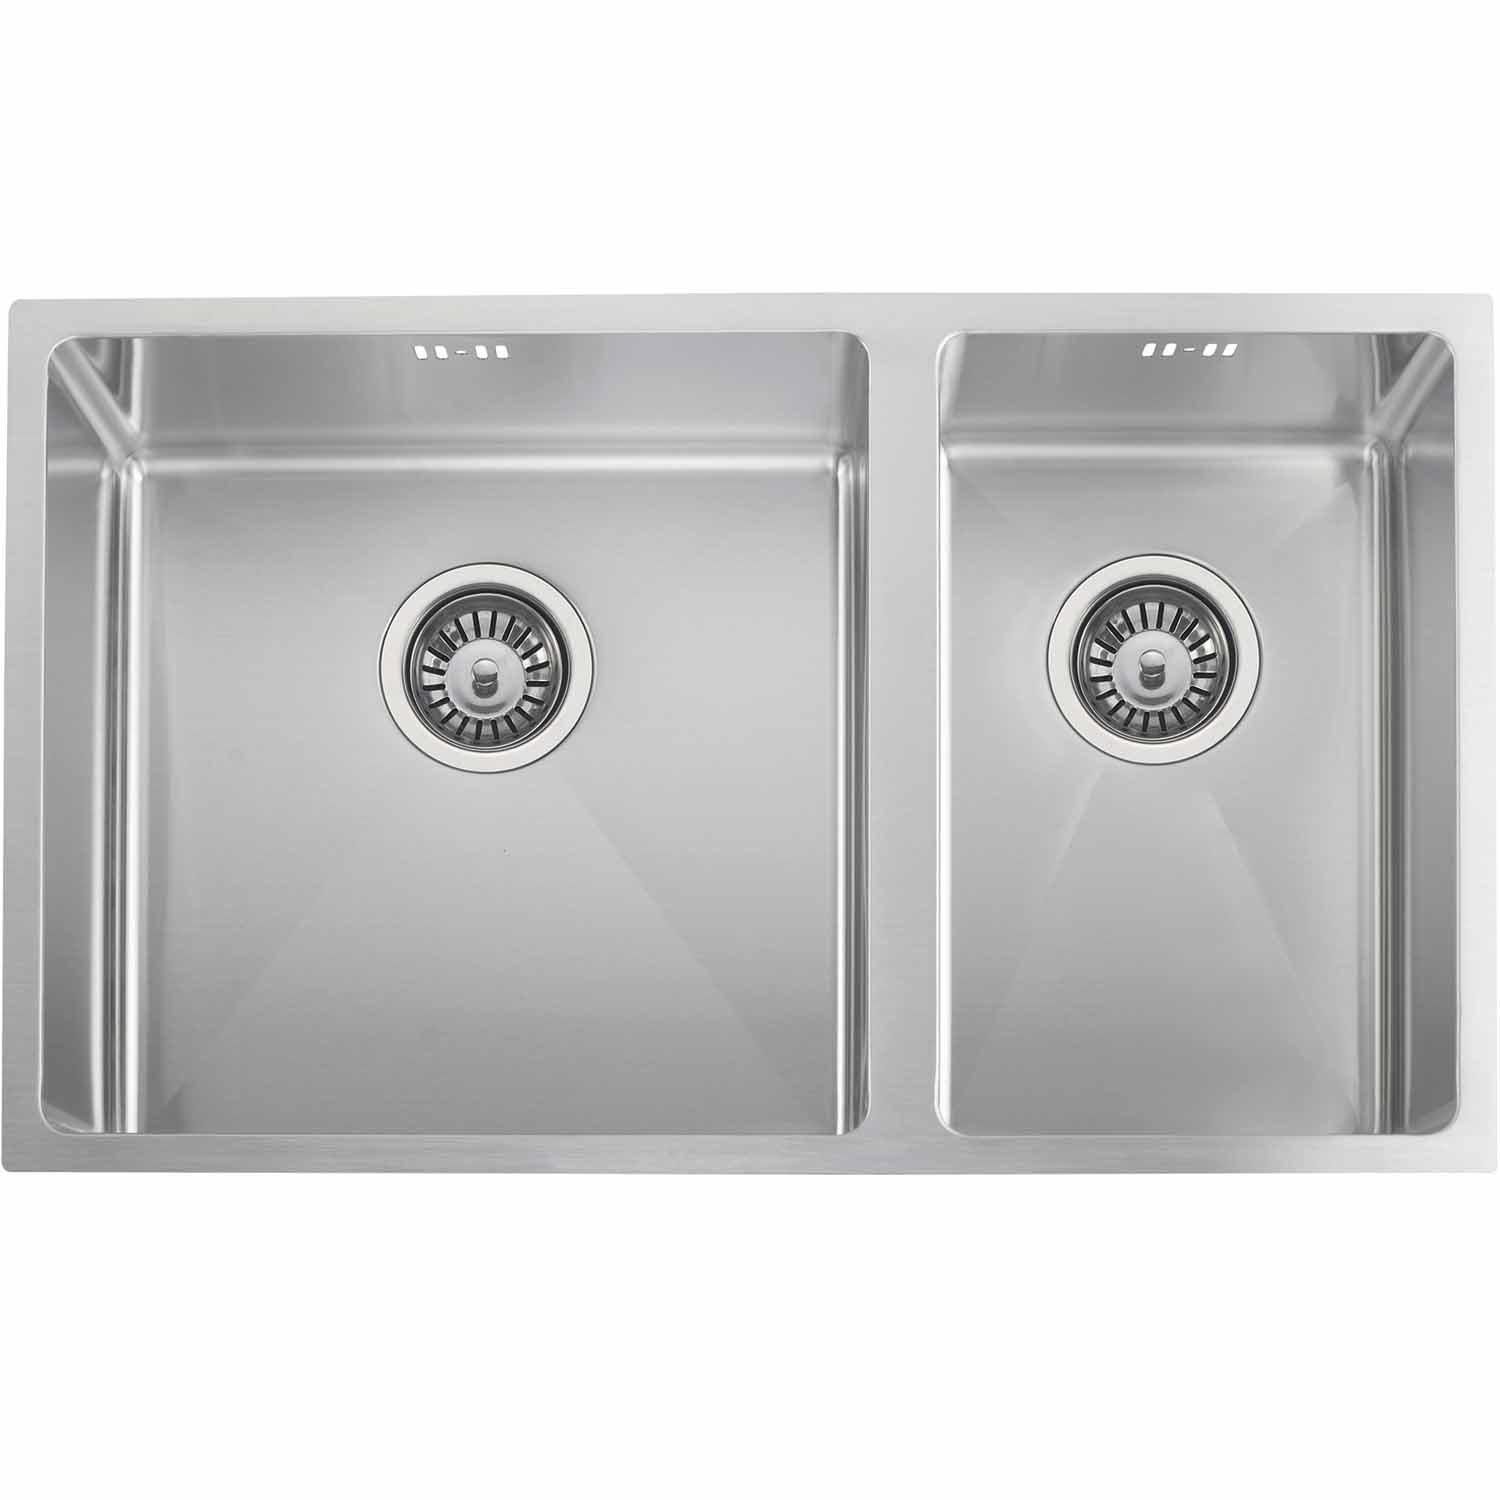Lavaplatos: (0, 185, 1499, 1217)
